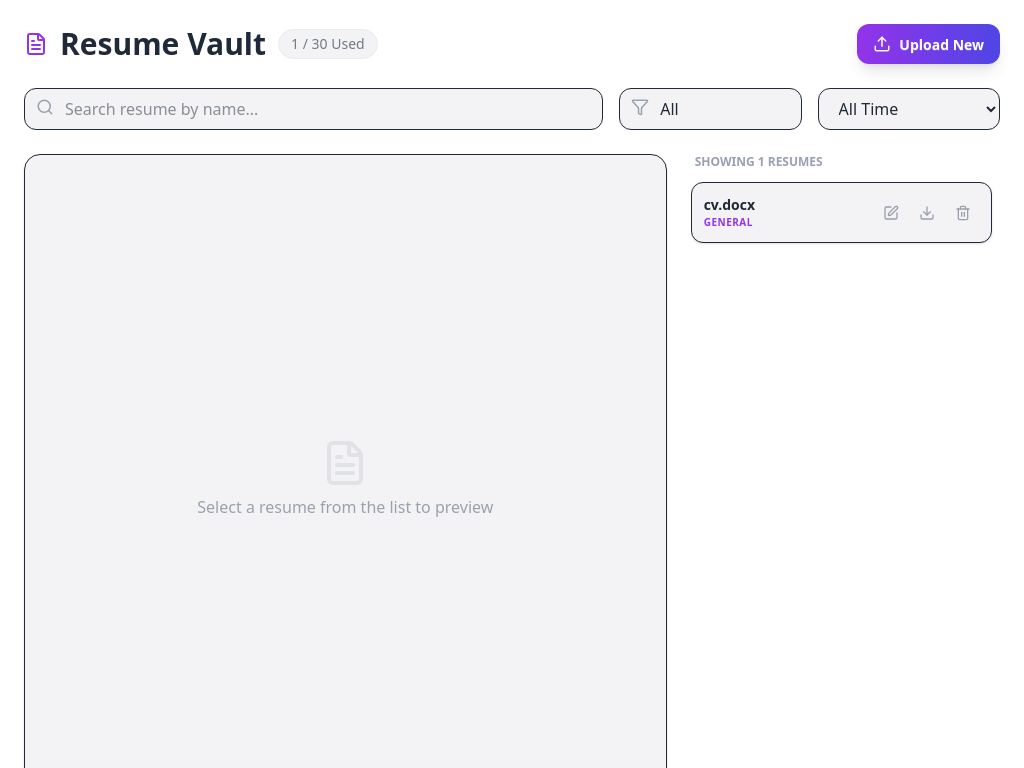
Test case: Resume Vault files › offers download only (no inline preview iframe) for a Word file
Click the text "cv.docx" at point(729, 204), box [704,195,755,214]
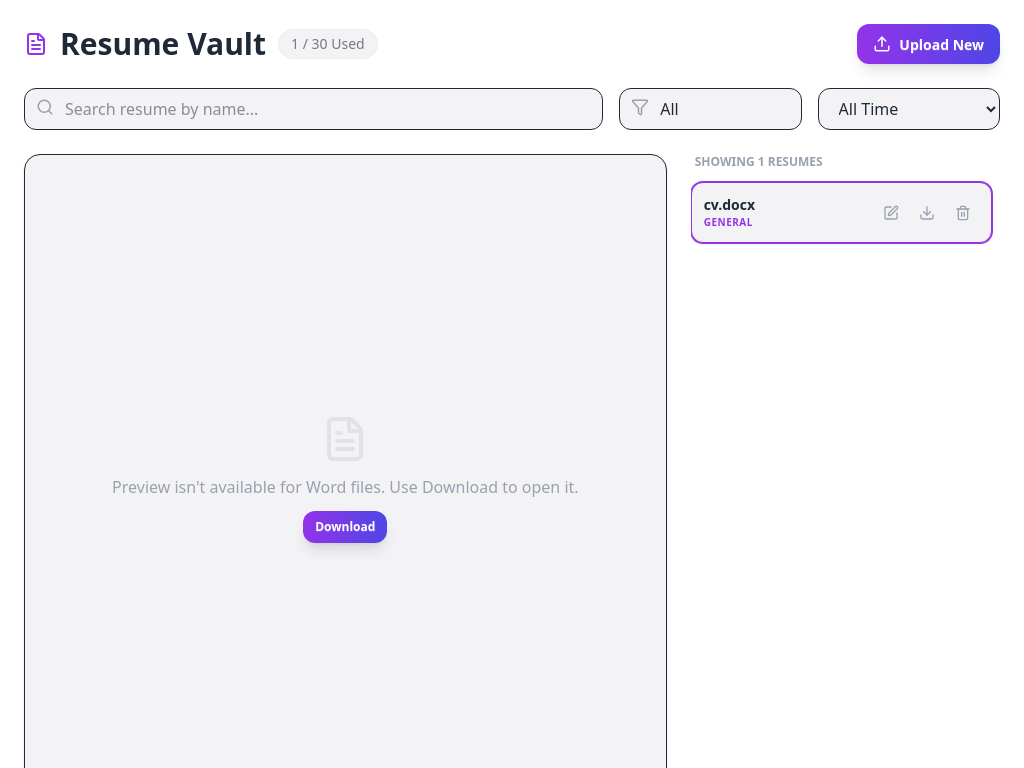
Expected: the text "Preview isn't available for Word files" is shown, [112,476,579,498]
